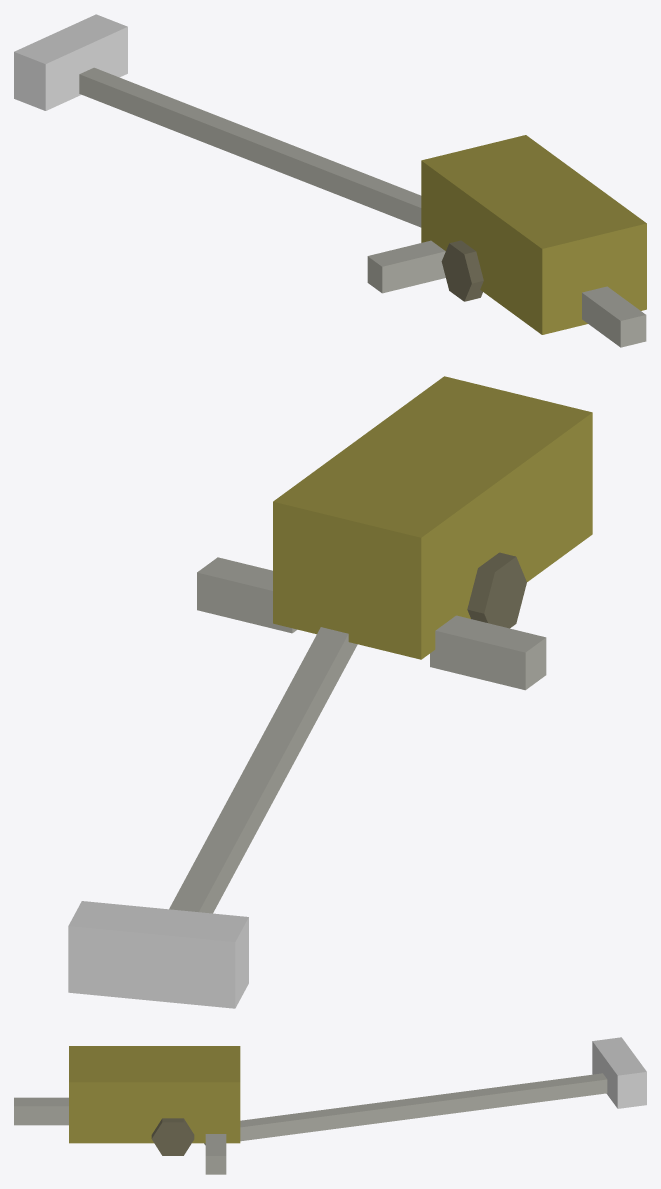
The model's file is SM_TorreLuz_v4_Caida_LOD1.fbx.
3 renders of one model, top to bottom at view 1: azimuth 30°, elevation 25°; view 2: azimuth 150°, elevation 25°; view 3: azimuth 270°, elevation 25°, orthographic. The views are drawn at different scales.
Visible parts, largest first — view 1: SM_ambiente_aerodromo_v19_LOD1; view 2: SM_ambiente_aerodromo_v19_LOD1; view 3: SM_ambiente_aerodromo_v19_LOD1.
Boxes of the visible parts, x1=… form: SM_ambiente_aerodromo_v19_LOD1: x1=14, y1=14, x2=646, y2=347; SM_ambiente_aerodromo_v19_LOD1: x1=68, y1=376, x2=592, y2=1008; SM_ambiente_aerodromo_v19_LOD1: x1=14, y1=1037, x2=646, y2=1174.
Bounding box in the file's own units: 4.09 × 1.3 × 10.35.
